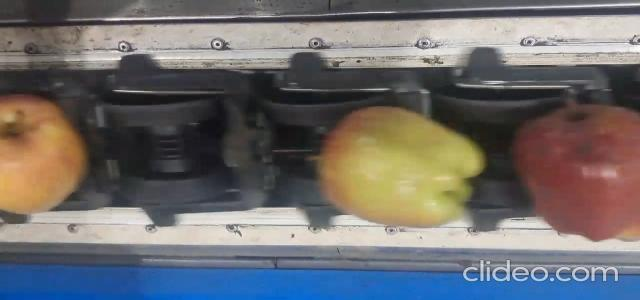apple: (319, 106, 485, 226), (514, 105, 640, 241)
